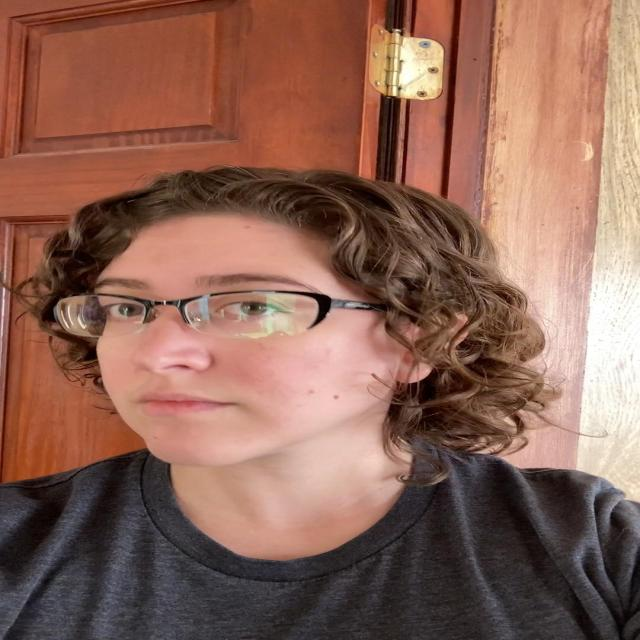no-helmet: (81, 215, 426, 469)
